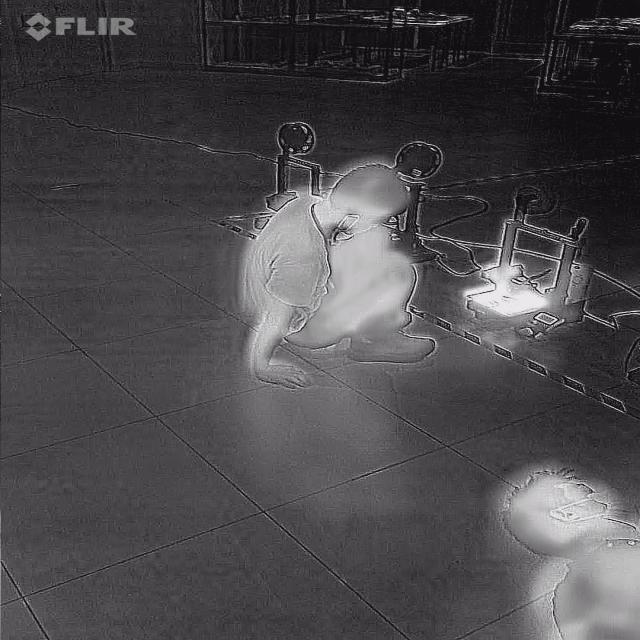Victim: (210, 152, 458, 392), (498, 454, 639, 640)
